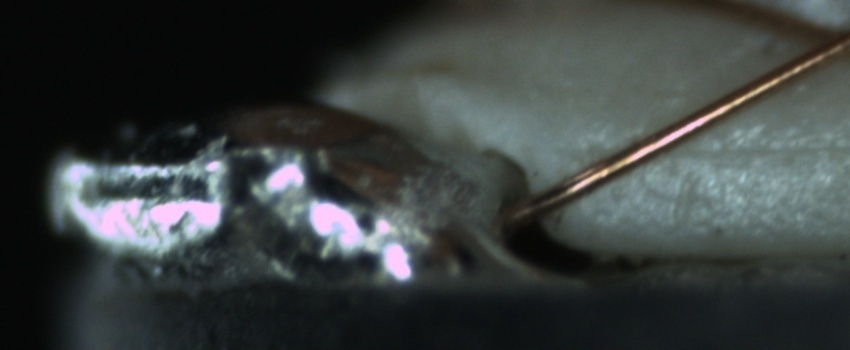CL: (776, 1, 850, 71)
DL: (671, 117, 850, 183)
